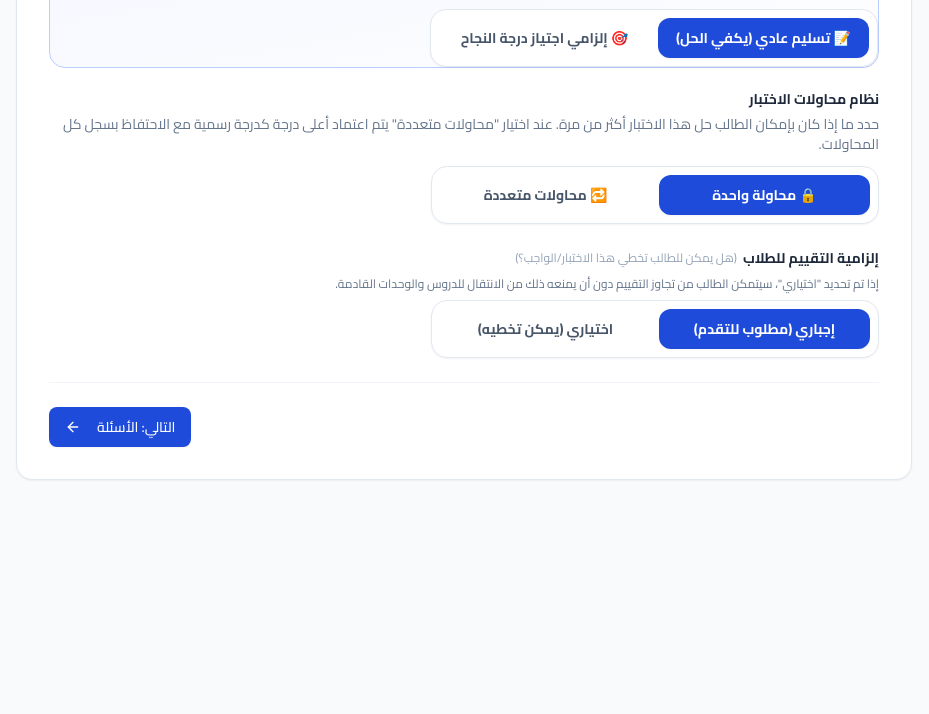
Test: Assessment Wizard - Create › validates basic metadata
(page scrolled)
Attempt to proceed without filling required fields
What coordinates should you click on to do the following:
click the button "التالي: الأسئلة"
I would click on:
 (120, 427)
Its box is [49, 407, 192, 447].
(page scrolled)
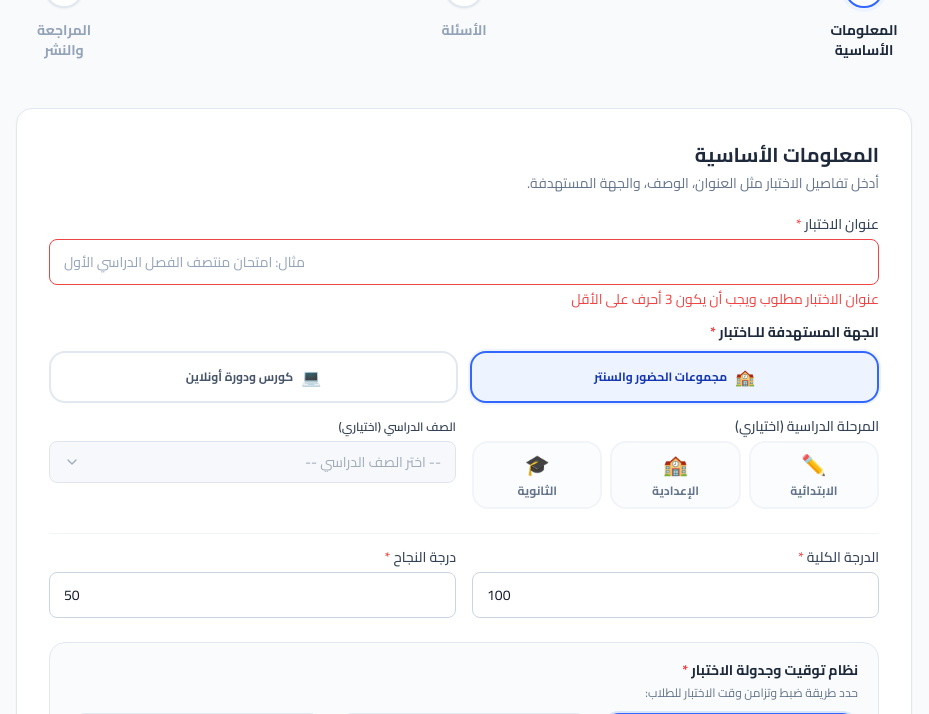
Now the text "عنوان الاختبار مطلوب ويجب أن يكون 3 أحرف على الأقل" is shown, box [571, 286, 879, 312]
